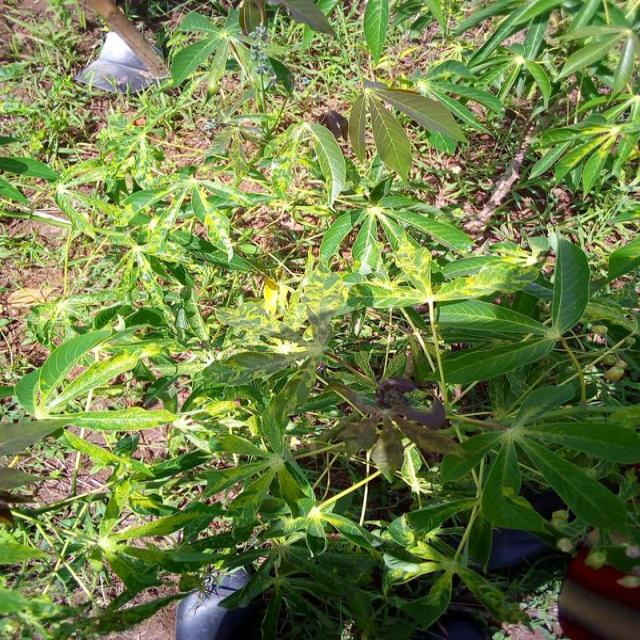cassava leaf: (348, 77, 466, 182)
